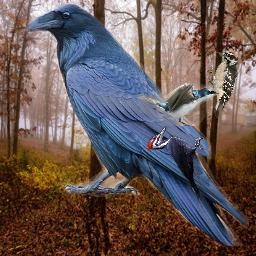Crow: (23, 1, 249, 246)
Swallow: (136, 82, 219, 126)
Woodpecker: (147, 126, 204, 207), (207, 52, 239, 118)
